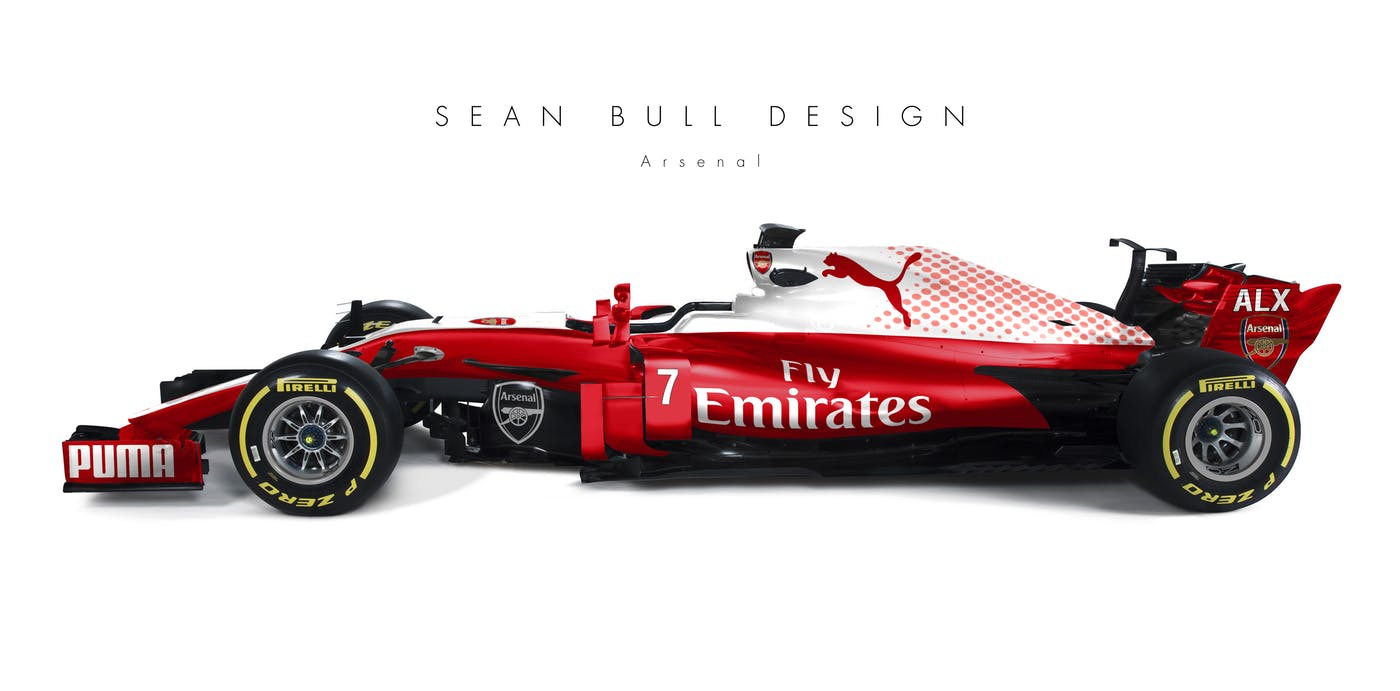f1_car: (44, 206, 1357, 552)
